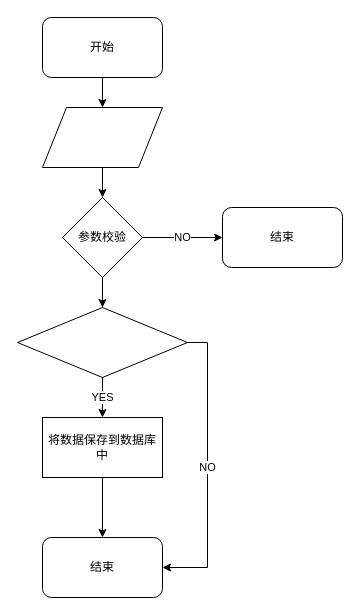
Image size: 360x615. Some labels were removed from this diagram. Here are the shapes that lost their labels. From the top down, the centre of each, then its label:
At point 102,137: "BoatDTO".
At point 102,342: "校验用户身份".
